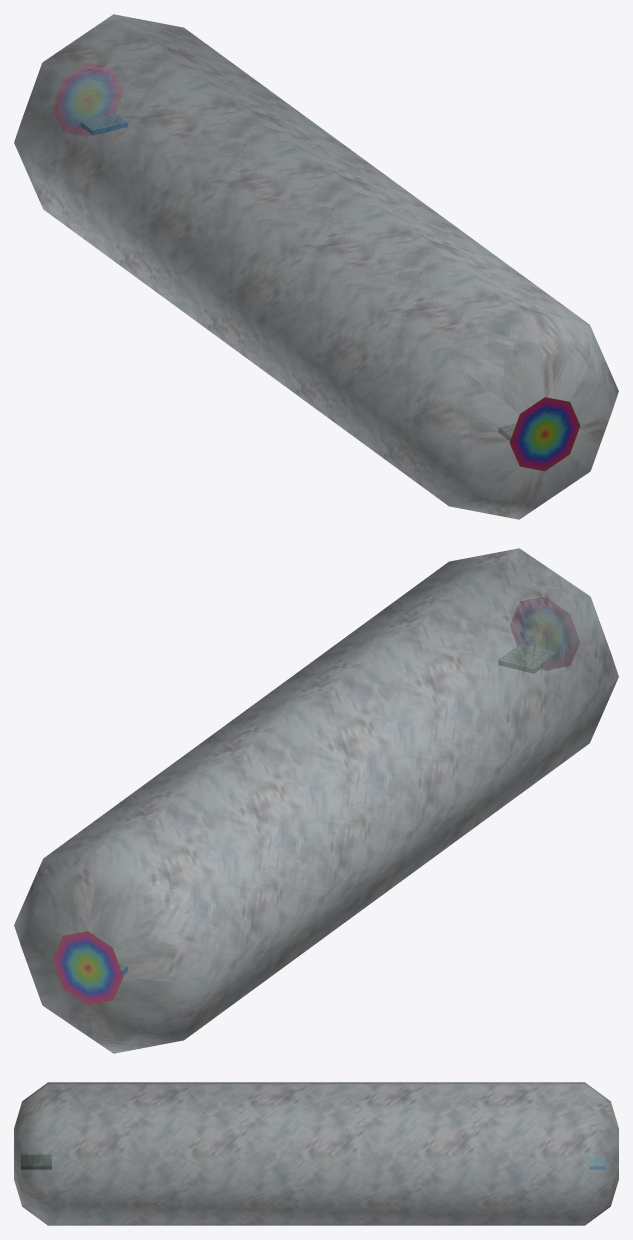
The model's file is Tunnel.obj.
The picture shows the model from 3 angles, top to bottom: view 1: azimuth 30°, elevation 25°; view 2: azimuth 150°, elevation 25°; view 3: azimuth 270°, elevation 25°; orthographic projection. The views are drawn at different scales.
Visible parts, largest first — view 1: Mesh4 Component_1_1 Model, Mesh2 Component_3_1 Model, Mesh1 Component_2_1 Model; view 2: Mesh4 Component_1_1 Model, Mesh1 Component_2_1 Model, Mesh2 Component_3_1 Model, Mesh5 Model; view 3: Mesh4 Component_1_1 Model, Mesh5 Model, Mesh3 Component_4_1 Model.
Boxes of the visible parts, box(x1,y1,x2,y2) form: Mesh4 Component_1_1 Model: box(14, 14, 618, 519); Mesh2 Component_3_1 Model: box(509, 397, 580, 471); Mesh1 Component_2_1 Model: box(53, 63, 122, 136); Mesh4 Component_1_1 Model: box(14, 548, 618, 1053); Mesh1 Component_2_1 Model: box(52, 931, 123, 1005); Mesh2 Component_3_1 Model: box(510, 597, 579, 670); Mesh5 Model: box(498, 643, 557, 673); Mesh4 Component_1_1 Model: box(14, 1082, 618, 1225); Mesh5 Model: box(21, 1155, 51, 1169); Mesh3 Component_4_1 Model: box(589, 1155, 605, 1169).
Size of the model in its own units: 268 by 268 by 1065.
7 materials, 7 textured.
